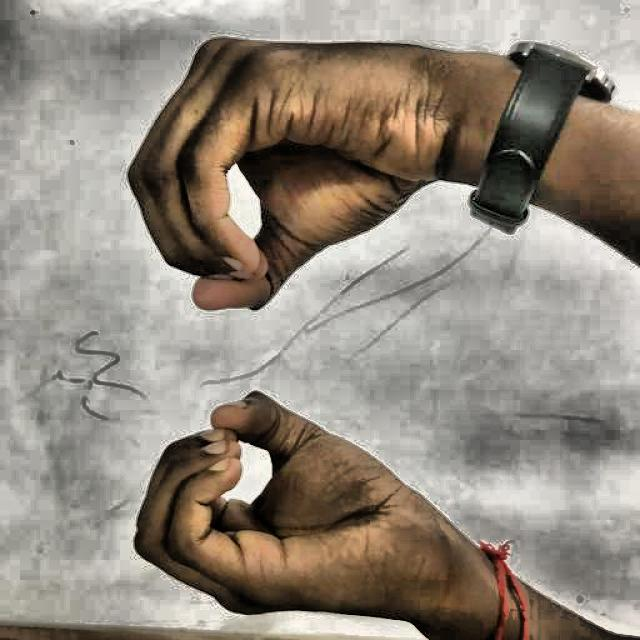Bisharga: (90, 21, 466, 637)
